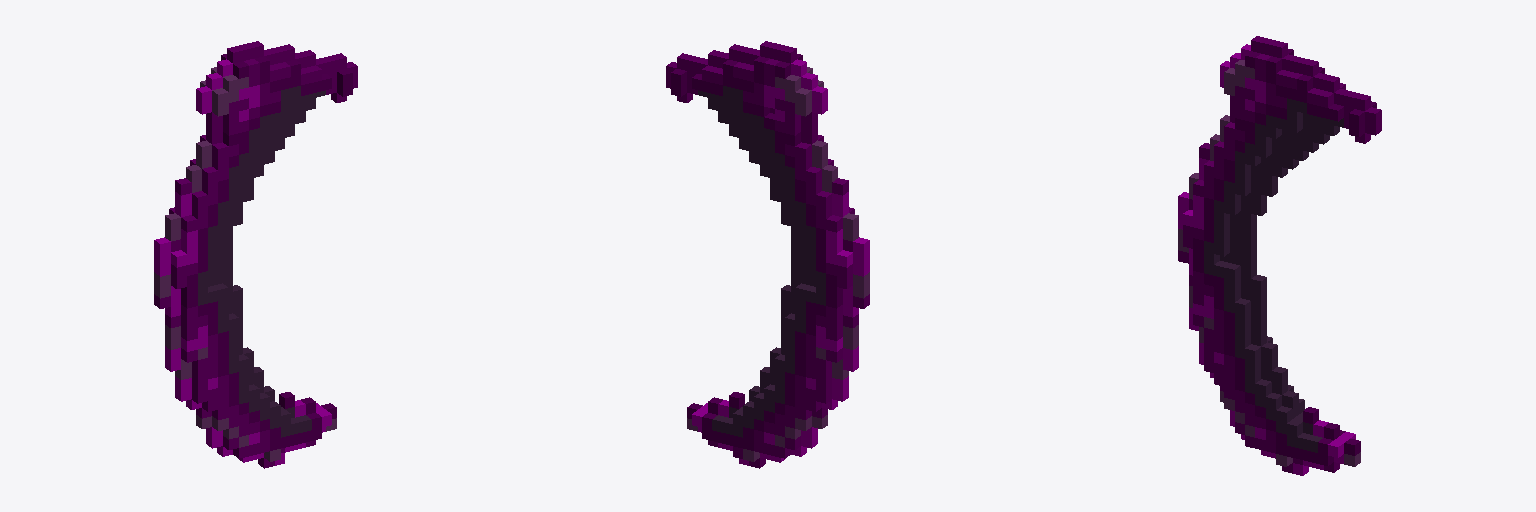
3 views of the same model, side by side, from view 1: azimuth 30°, elevation 25°; view 2: azimuth 150°, elevation 25°; view 3: azimuth 330°, elevation 25° (orthographic).
Visible parts, largest first — view 1: object 1; view 2: object 1; view 3: object 1.
Part boxes in pixels (left/top/right/bottom): object 1: left=154, top=41, right=357, bottom=468; object 1: left=666, top=41, right=869, bottom=468; object 1: left=1178, top=36, right=1381, bottom=475.
Size of the model in its own units: 1.9 by 3.9 by 0.3.
Materials: 1 (1 with a texture image).